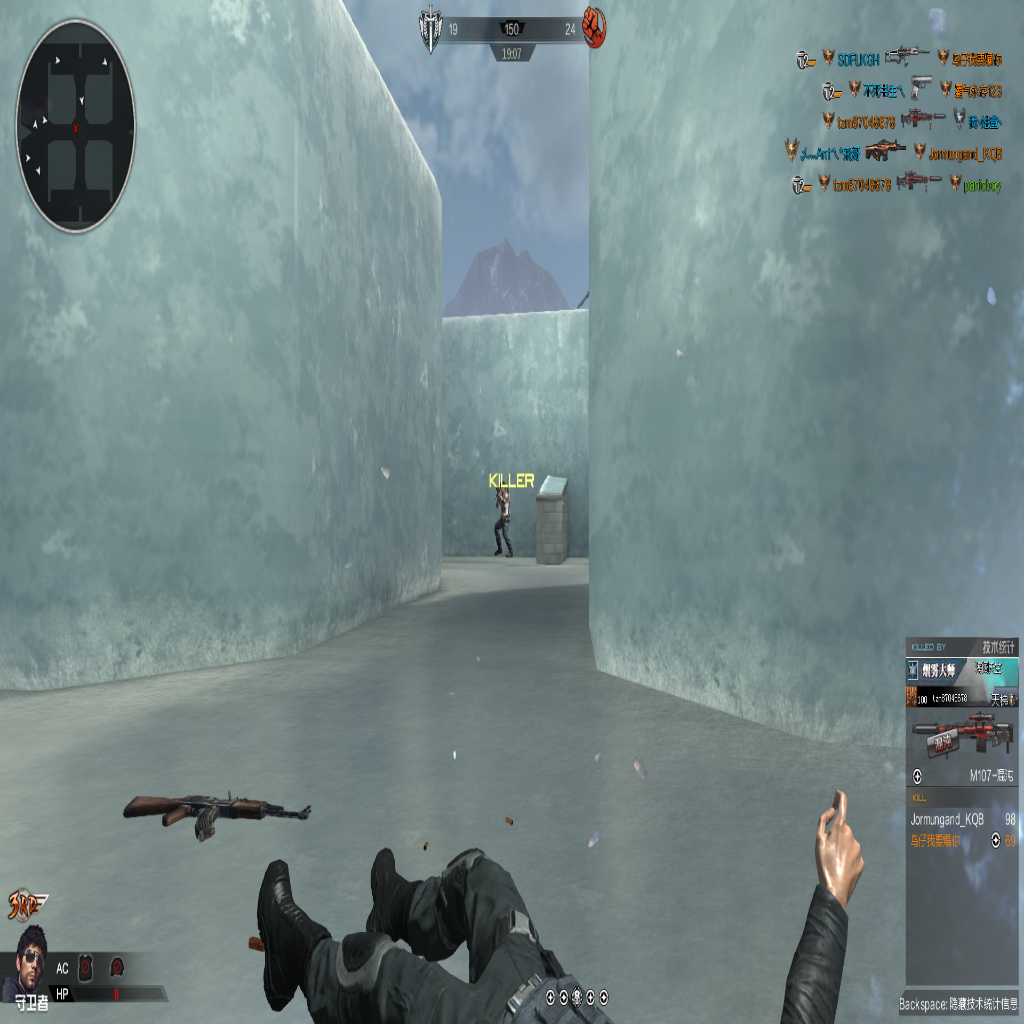tt: (492, 474, 513, 558)
